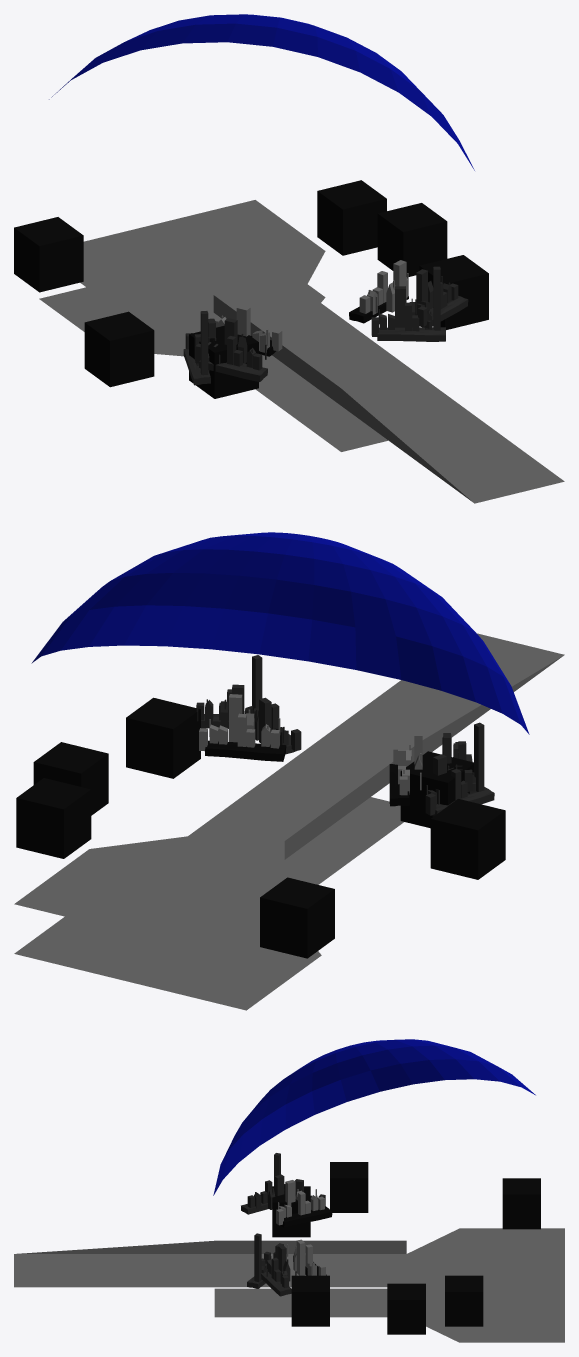
The model's file is background.obj.
The picture shows the model from 3 angles, top to bottom: view 1: azimuth 30°, elevation 25°; view 2: azimuth 150°, elevation 25°; view 3: azimuth 270°, elevation 25°; orthographic projection. The views are drawn at different scales.
Parts seen in each view (by area): view 1: Sphere; view 2: Sphere; view 3: Sphere.
Part boxes in pixels (x1=…): Sphere: x1=14, y1=14, x2=564, y2=503; Sphere: x1=14, y1=532, x2=564, y2=1010; Sphere: x1=14, y1=1039, x2=564, y2=1342.
Bounding box in the file's own units: 7.39 × 5.51 × 11.48.
